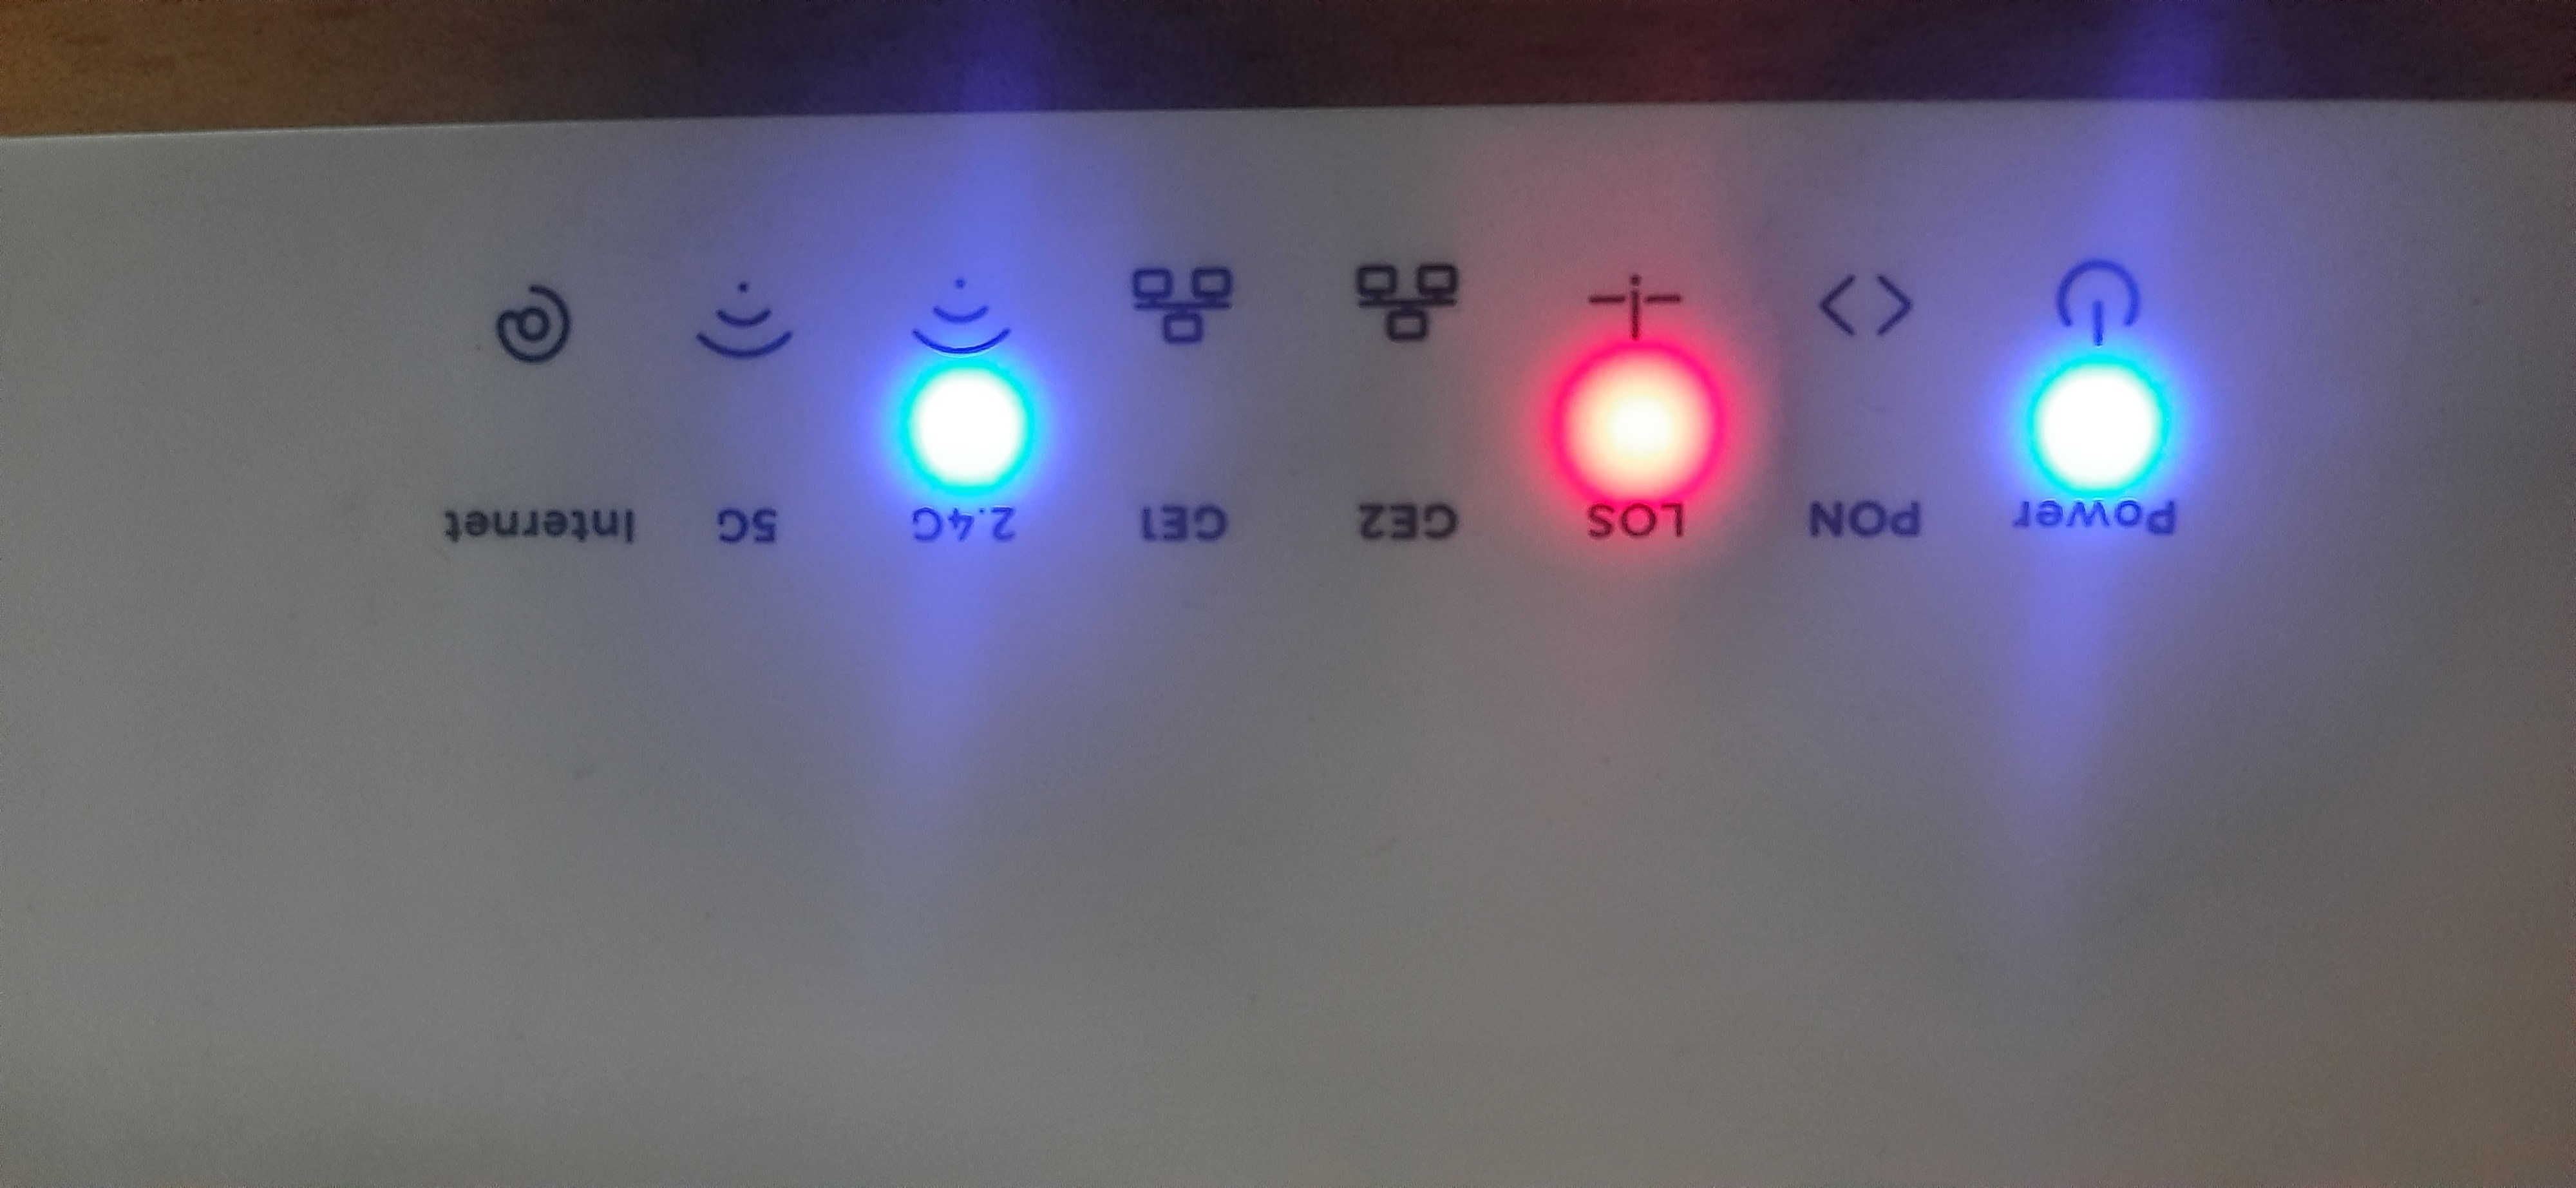LOSConnectionIssue: (1490, 237, 1786, 580)
